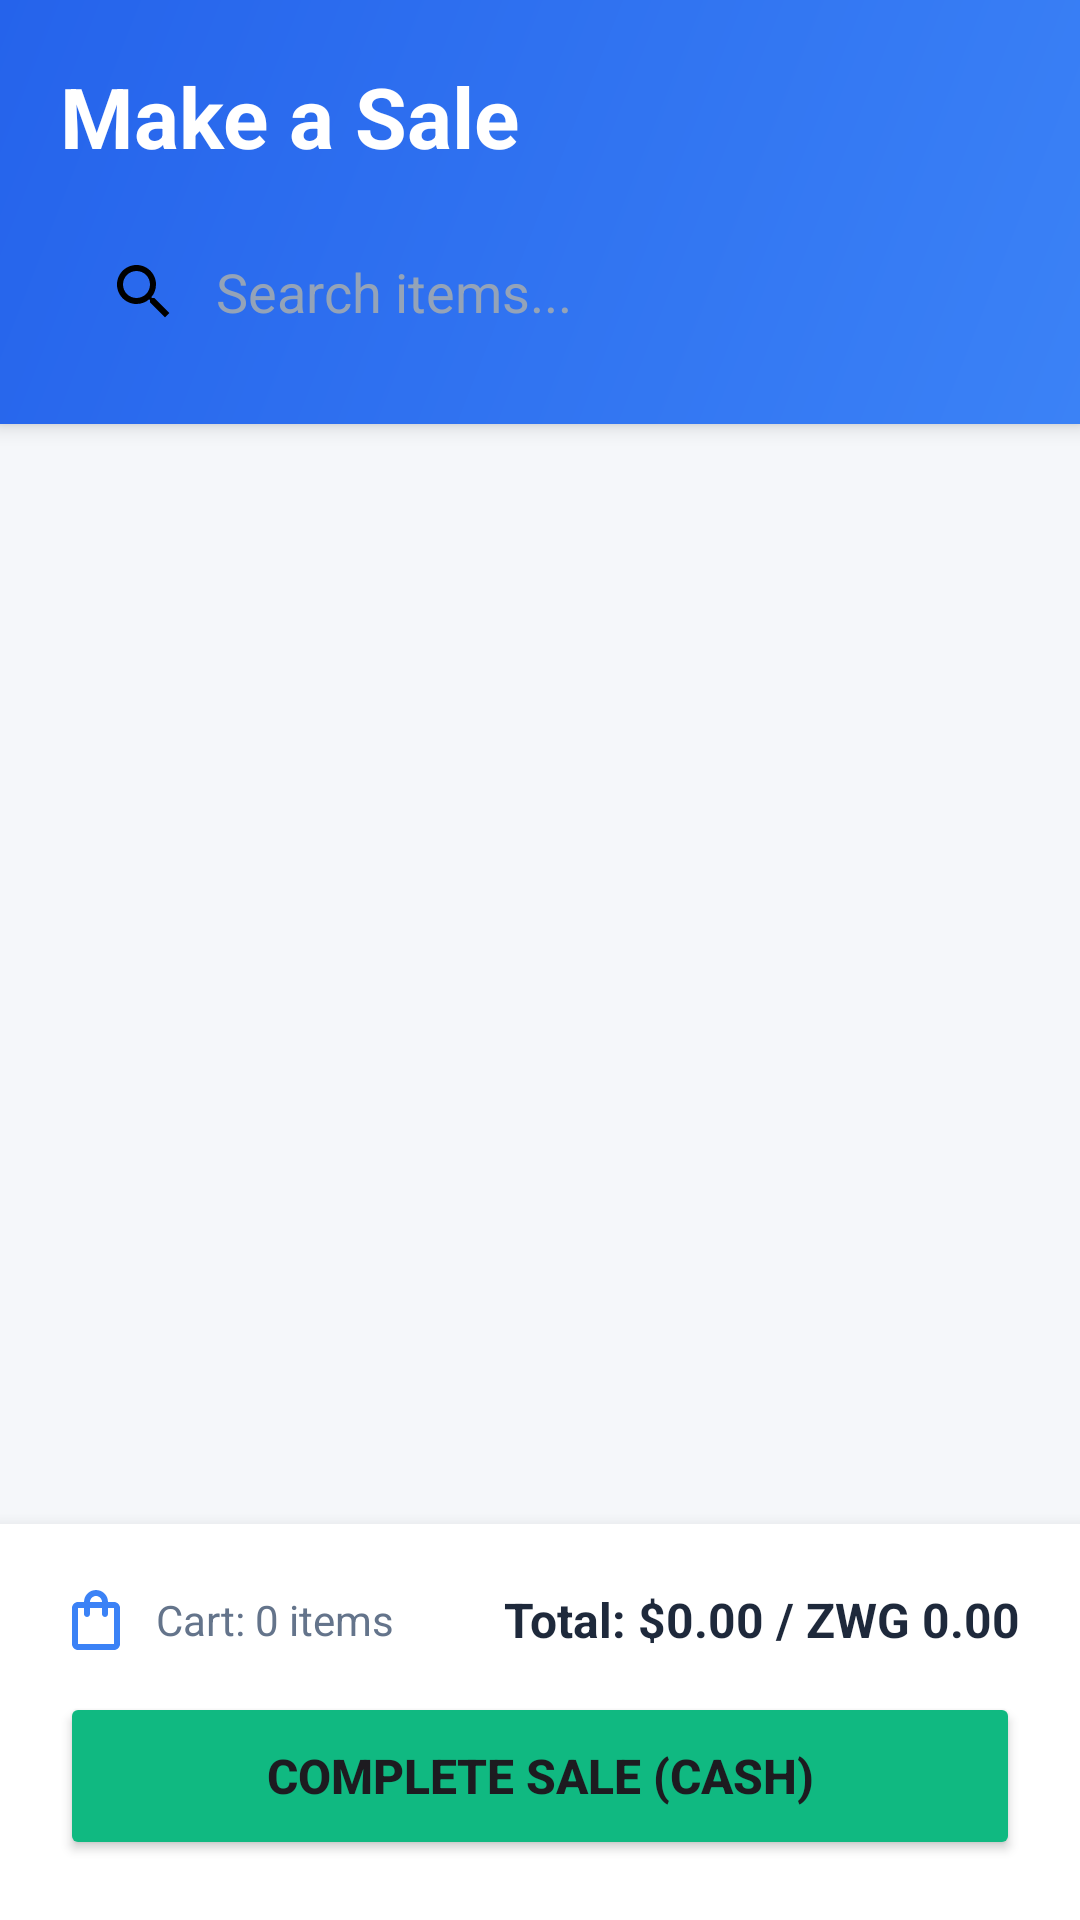

Named icons in this screenshot (1080×1920) and their centers, (x=x, y=y):
shopping bag: (x=96, y=1620)
